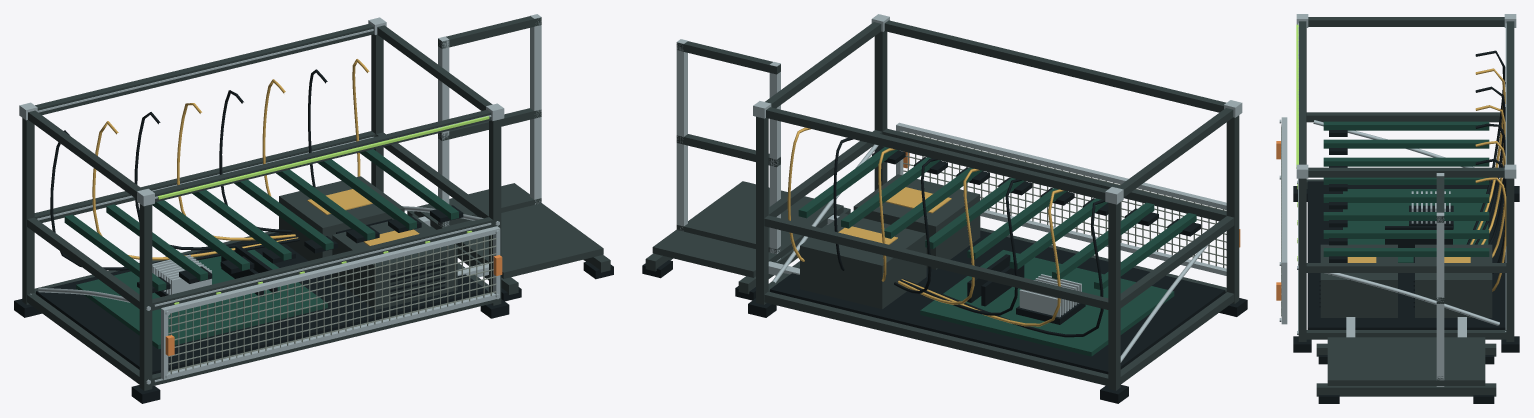
Rendered from rig-8-frame-filtered.glb.
3 views of the same model, side by side, from view 1: azimuth 30°, elevation 25°; view 2: azimuth 150°, elevation 25°; view 3: azimuth 270°, elevation 25° (orthographic). The views are drawn at different scales.
Parts seen in each view (by area): view 1: Anodized graphite (×2), Circuit board, Brushed aluminium (×3), Rubber and ABS, Filter fibres, rig-8-frame-filtered, Contacts, slot-cable-1, slot-cable-2, slot-cable-3, slot-cable-4, slot-cable-5; view 2: Anodized graphite (×2), Circuit board, Rubber and ABS, Brushed aluminium (×3), Filter fibres, Contacts, slot-cable-1, slot-cable-2, slot-cable-3, slot-cable-4, slot-cable-5; view 3: Anodized graphite (×2), Circuit board, Rubber and ABS (×2), Brushed aluminium (×3), slot-cable-1, slot-cable-2, rig-8-frame-filtered, slot-cable-3, slot-cable-4, slot-cable-8, slot-cable-5, Contacts (+1 smaller).
Boxes of the visible parts, box(x1,y1,x2,y2) form: Anodized graphite (×2): box(22, 16, 610, 390); Circuit board: box(64, 149, 458, 349); Brushed aluminium (×3): box(19, 14, 541, 384); Rubber and ABS: box(14, 205, 509, 403); Filter fibres: box(168, 235, 496, 374); rig-8-frame-filtered: box(158, 116, 489, 199); Contacts: box(307, 189, 419, 246); slot-cable-1: box(50, 130, 299, 270); slot-cable-2: box(92, 121, 298, 260); slot-cable-3: box(134, 112, 297, 250); slot-cable-4: box(177, 103, 295, 240); slot-cable-5: box(219, 90, 291, 232); Anodized graphite (×2): box(645, 20, 1239, 390); Circuit board: box(798, 147, 1196, 356); Rubber and ABS: box(748, 146, 1247, 403); Brushed aluminium (×3): box(676, 14, 1242, 362); Filter fibres: box(903, 132, 1226, 267); Contacts: box(838, 187, 951, 244); slot-cable-1: box(902, 200, 1105, 337); slot-cable-2: box(901, 189, 1063, 326); slot-cable-3: box(900, 179, 1021, 315); slot-cable-4: box(898, 168, 979, 304); slot-cable-5: box(894, 158, 937, 293); Anodized graphite (×2): box(1298, 17, 1514, 396); Circuit board: box(1323, 121, 1489, 262); Rubber and ABS (×2): box(1293, 130, 1519, 403); Brushed aluminium (×3): box(1281, 14, 1516, 386); slot-cable-1: box(1466, 50, 1505, 244); slot-cable-2: box(1470, 68, 1505, 244); rig-8-frame-filtered: box(1296, 24, 1298, 168); slot-cable-3: box(1474, 86, 1505, 244); slot-cable-4: box(1475, 105, 1505, 244); slot-cable-8: box(1475, 177, 1506, 291); slot-cable-5: box(1475, 123, 1505, 244); Contacts: box(1347, 257, 1470, 262).
Size of the model in its own units: 8.02 by 3.32 by 3.94.
